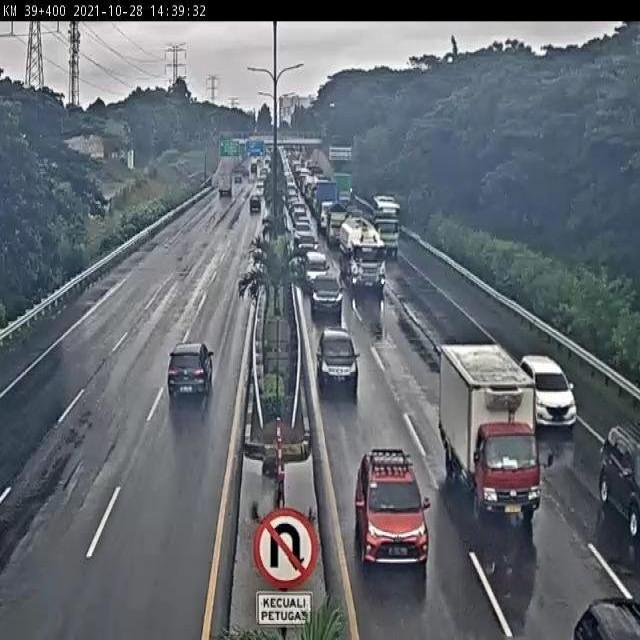big truck: (334, 216, 388, 304)
car: (347, 426, 431, 570), (145, 316, 231, 420), (531, 570, 640, 640), (510, 340, 585, 435), (596, 398, 640, 546), (313, 316, 371, 407), (305, 265, 344, 316), (242, 192, 266, 217)
small truck: (431, 331, 544, 528), (369, 207, 399, 257), (209, 168, 239, 203)
